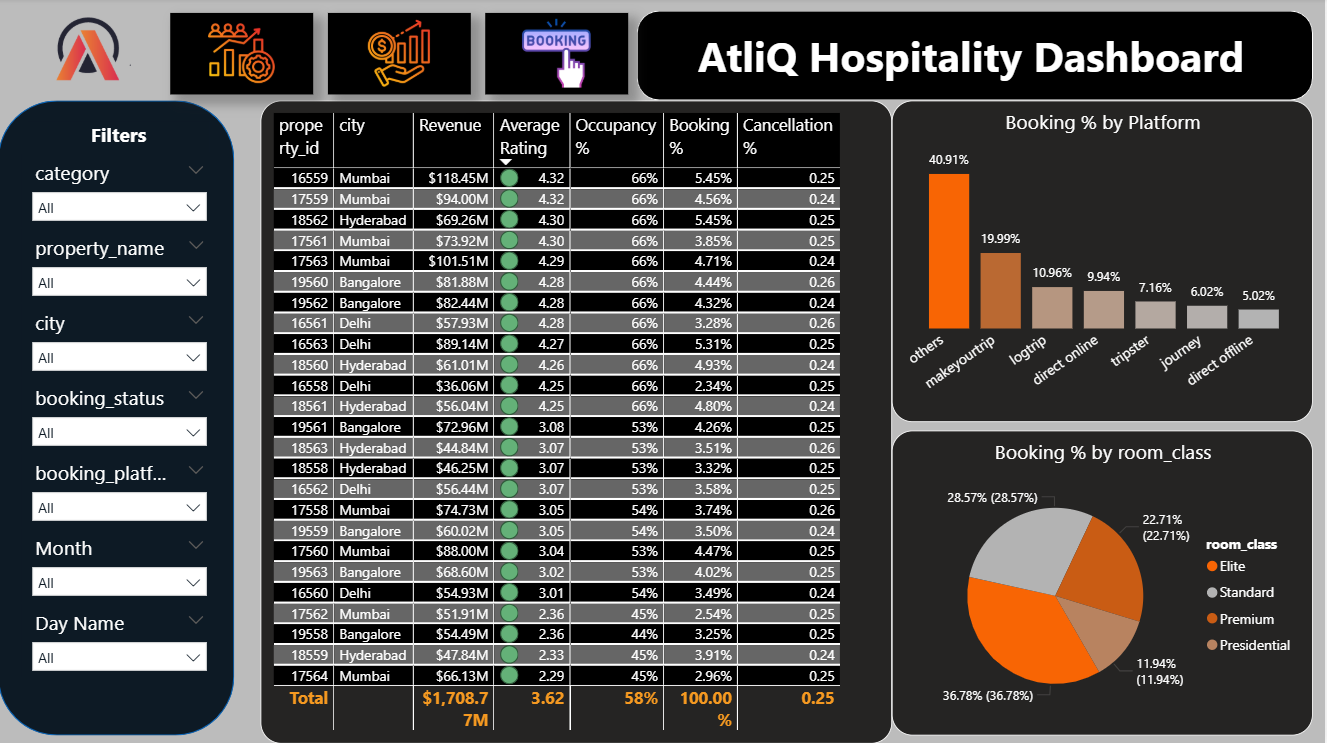

The dashboard page shown, as its layout file describes it:
{"tool":"powerbi","page":{"name":"Revenue Overview","canvas":[1280,720],"ordinal":2},"visuals":[{"type":"shape","box":[0,98.9,228,612.9],"z":0},{"type":"slicer","fields":{"Values":["dim_hotels.category"]},"box":[23,150.8,188,70],"z":0,"group":"g1"},{"type":"group","id":"g1","title":"Group 1","box":[22.9,119.4,188.2,535.7],"z":1000},{"type":"slicer","fields":{"Values":["dim_hotels.property_name"]},"box":[22.9,223.2,188.2,70],"z":1000,"group":"g1"},{"type":"tableEx","fields":{"Values":["dim_hotels.property_id","dim_hotels.city","key_measures.Revenue","key_measures.Average Rating","key_measures.Occupancy %","key_measures.Booking %","key_measures.Cancellation %"]},"box":[252.8,98.6,609.7,620.8],"z":2000},{"type":"slicer","fields":{"Values":["dim_hotels.city"]},"box":[23,295.5,188,70],"z":2000,"group":"g1"},{"type":"image","box":[0,0,166.5,98.9],"z":3000},{"type":"textbox","title":"Filters","box":[29.5,119.4,174.9,29],"z":3000,"group":"g1"},{"type":"shape","box":[616.5,12.1,652.7,86.9],"z":4000},{"type":"slicer","fields":{"Values":["fack_bookings.booking_status"]},"box":[23,367.9,188,70],"z":4000,"group":"g1"},{"type":"textbox","title":"AtliQ Hospitality Dashboard","box":[627.3,27.7,623.7,61.5],"z":5000},{"type":"slicer","fields":{"Values":["fack_bookings.booking_platform"]},"box":[23,440.3,188,70],"z":5000,"group":"g1"},{"type":"columnChart","title":"Booking % by Platform","fields":{"Y":["key_measures.Booking %"],"Category":["fack_bookings.booking_platform"]},"box":[862.6,98.9,406.6,310.1],"z":6000},{"type":"slicer","fields":{"Values":["dim_date.date.Variation.Date Hierarchy.Month"]},"box":[23,512.7,188,70],"z":6000,"group":"g1"},{"type":"pieChart","fields":{"Y":["key_measures.Booking %"],"Category":["dim_rooms.room_class"]},"box":[862.6,417.4,406.6,294.4],"z":7000},{"type":"slicer","fields":{"Values":["dim_date.Day Name"]},"box":[23,585.1,188,70],"z":7000,"group":"g1"},{"type":"image","box":[166.5,14.5,137.5,78.4],"z":11000,"group":"g2"},{"type":"image","box":[318.4,14.5,137.5,78.4],"z":12000,"group":"g2"},{"type":"image","box":[470.3,14.5,137.5,78.4],"z":13000,"group":"g2"},{"type":"group","id":"g2","title":"Group 2","box":[166.5,14.5,441.6,78.4],"z":13001}]}

Visuals, with their boxes in screenshot pixels (x1, y1, x2, y2), scaled from the page's 1280x720 canvas onto the 1327x743 screenshot:
shape: l=0, t=102, r=236, b=735
slicer - dim_hotels.category: l=24, t=156, r=219, b=228
"Group 1" group: l=24, t=123, r=219, b=676
slicer - dim_hotels.property_name: l=24, t=230, r=219, b=303
tableEx - dim_hotels.property_id x dim_hotels.city: l=262, t=102, r=894, b=742
slicer - dim_hotels.city: l=24, t=305, r=219, b=377
image: l=0, t=0, r=173, b=102
"Filters" textbox: l=31, t=123, r=212, b=153
shape: l=639, t=12, r=1316, b=102
slicer - fack_bookings.booking_status: l=24, t=380, r=219, b=452
"AtliQ Hospitality Dashboard" textbox: l=650, t=29, r=1297, b=92
slicer - fack_bookings.booking_platform: l=24, t=454, r=219, b=527
"Booking % by Platform" columnChart: l=894, t=102, r=1316, b=422
slicer - dim_date.date.Variation.Date Hierarchy.Month: l=24, t=529, r=219, b=601
pieChart - key_measures.Booking % x dim_rooms.room_class: l=894, t=431, r=1316, b=735
slicer - dim_date.Day Name: l=24, t=604, r=219, b=676
image: l=173, t=15, r=315, b=96
image: l=330, t=15, r=473, b=96
image: l=488, t=15, r=630, b=96
"Group 2" group: l=173, t=15, r=630, b=96
